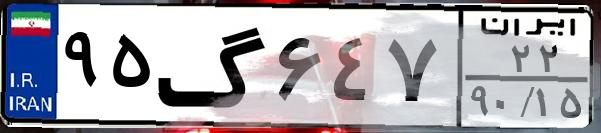0: (495, 70, 520, 125)
1: (535, 70, 560, 125)
2: (537, 27, 568, 80), (508, 27, 537, 80)
4: (330, 28, 385, 110)
5: (110, 28, 156, 98), (560, 70, 590, 125)
6: (270, 28, 330, 110)
7: (385, 28, 445, 110)
9: (57, 26, 110, 100), (470, 70, 495, 125)
گ: (156, 12, 270, 120)
